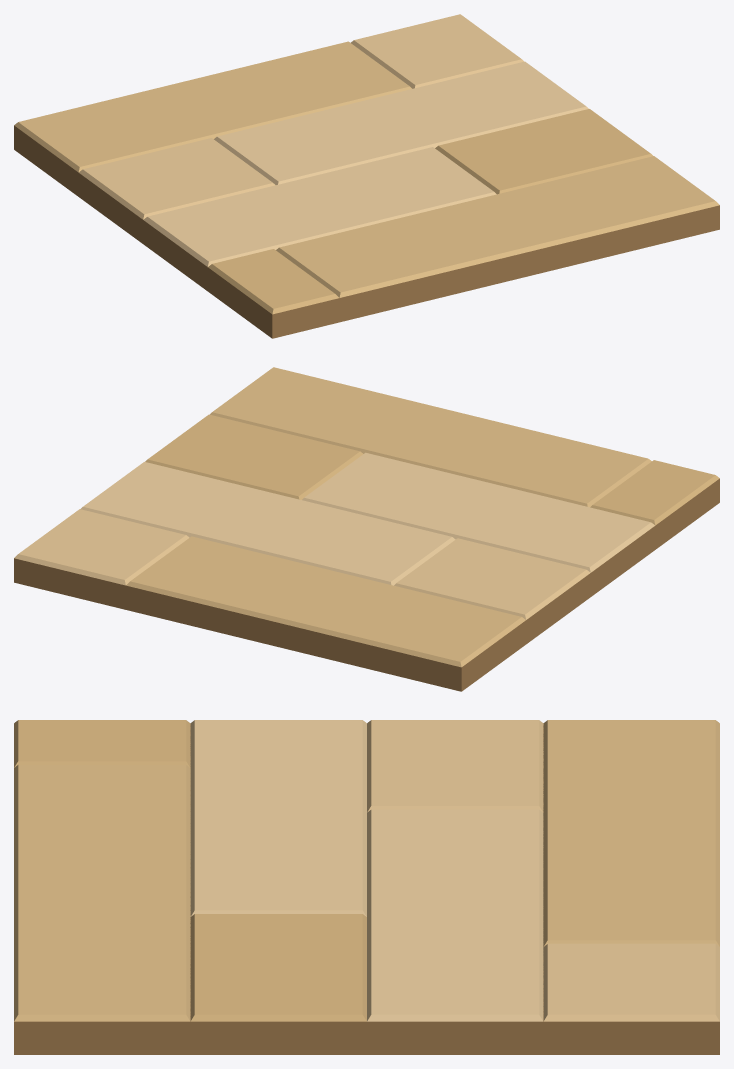
Rendered from wg_boden_holzhell_b.glb.
The picture shows the model from 3 angles, top to bottom: view 1: azimuth 30°, elevation 25°; view 2: azimuth 150°, elevation 25°; view 3: azimuth 270°, elevation 25°; orthographic projection. The views are drawn at different scales.
Visible parts, largest first — view 1: wg_boden_holzhell_b; view 2: wg_boden_holzhell_b; view 3: wg_boden_holzhell_b.
Boxes of the visible parts, left/top/right/bottom form: wg_boden_holzhell_b: left=14, top=14, right=719, bottom=338; wg_boden_holzhell_b: left=14, top=367, right=719, bottom=691; wg_boden_holzhell_b: left=14, top=720, right=719, bottom=1054.
Size of the model in its own units: 1 by 0.06 by 1.
